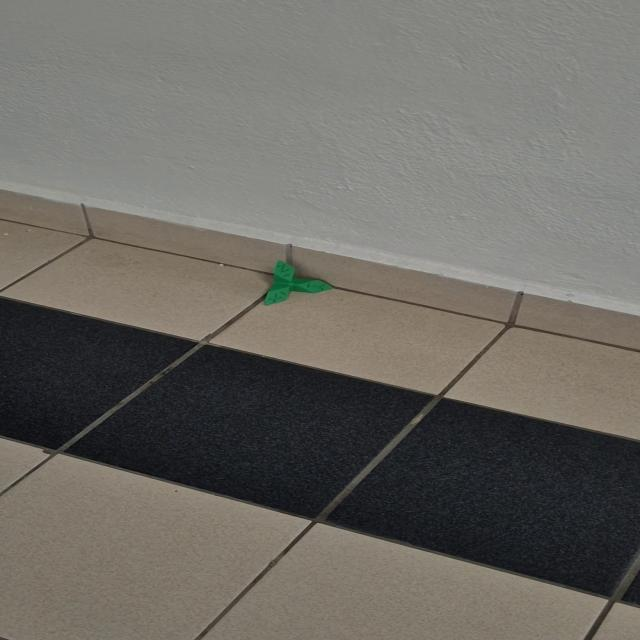objects: (262, 259, 334, 306)
